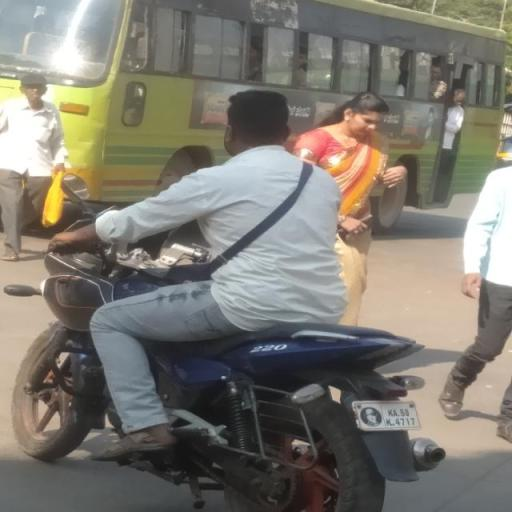bike: (4, 88, 456, 512), (138, 115, 148, 138)
numberplate: (352, 400, 422, 432)
withouthelmet: (226, 93, 294, 153)
